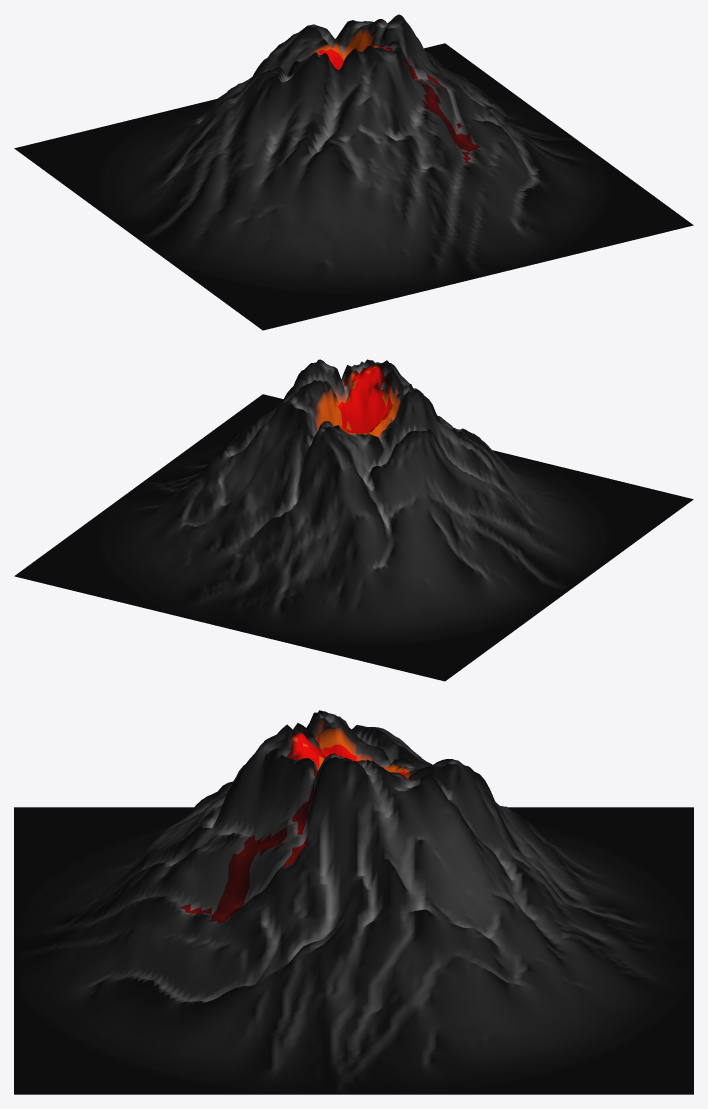
The model's file is Volcano2.fbx.
3 renders of one model, top to bottom at view 1: azimuth 30°, elevation 25°; view 2: azimuth 150°, elevation 25°; view 3: azimuth 270°, elevation 25°, orthographic. The views are drawn at different scales.
Parts seen in each view (by area): view 1: Landscape; view 2: Landscape; view 3: Landscape.
Boxes of the visible parts, x1,y1,x2,y2 form: Landscape: [14, 14, 693, 330]; Landscape: [14, 359, 693, 681]; Landscape: [14, 710, 693, 1094].
Bounding box in the file's own units: 200 × 72.19 × 200.
